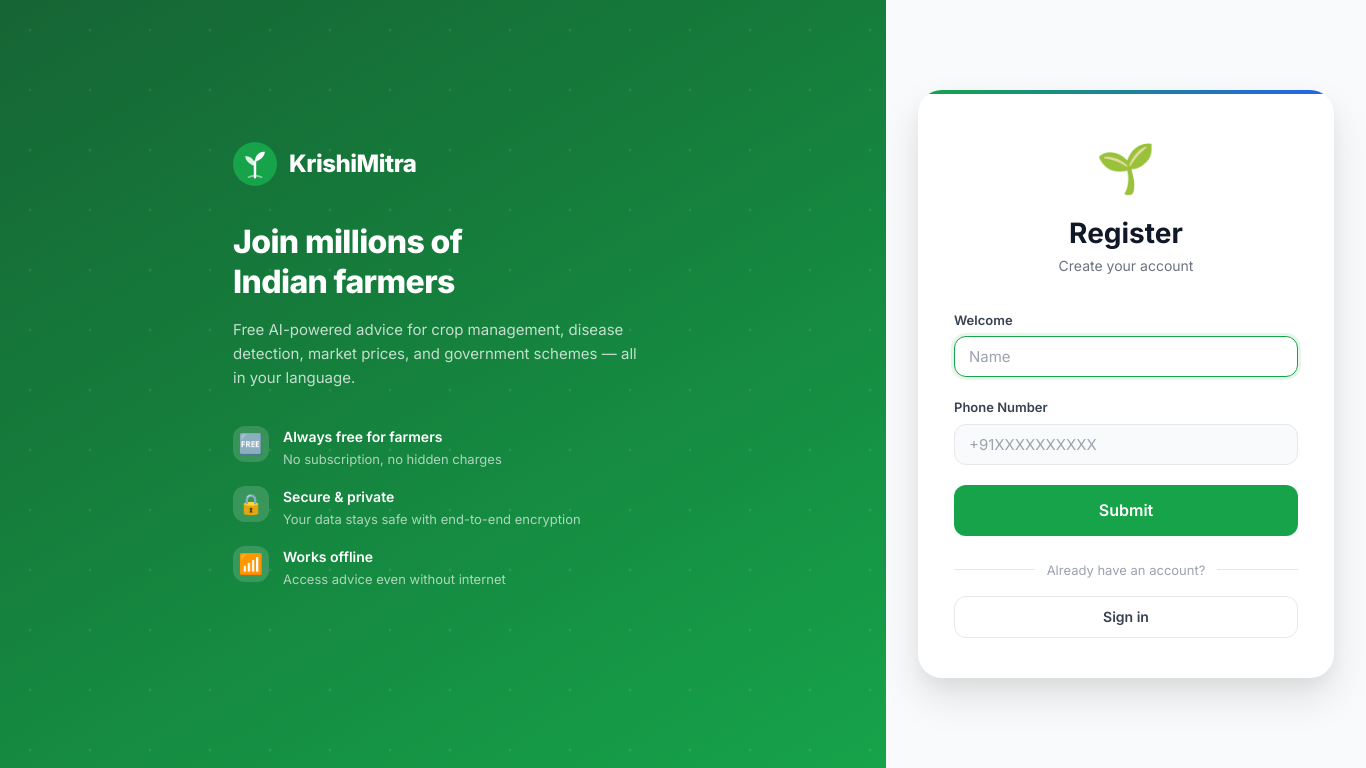
Test: shows OTP input after registration
Step 1. Type "Test User" into the field with placeholder "Name" → (1126, 357), box [954,336,1298,377]
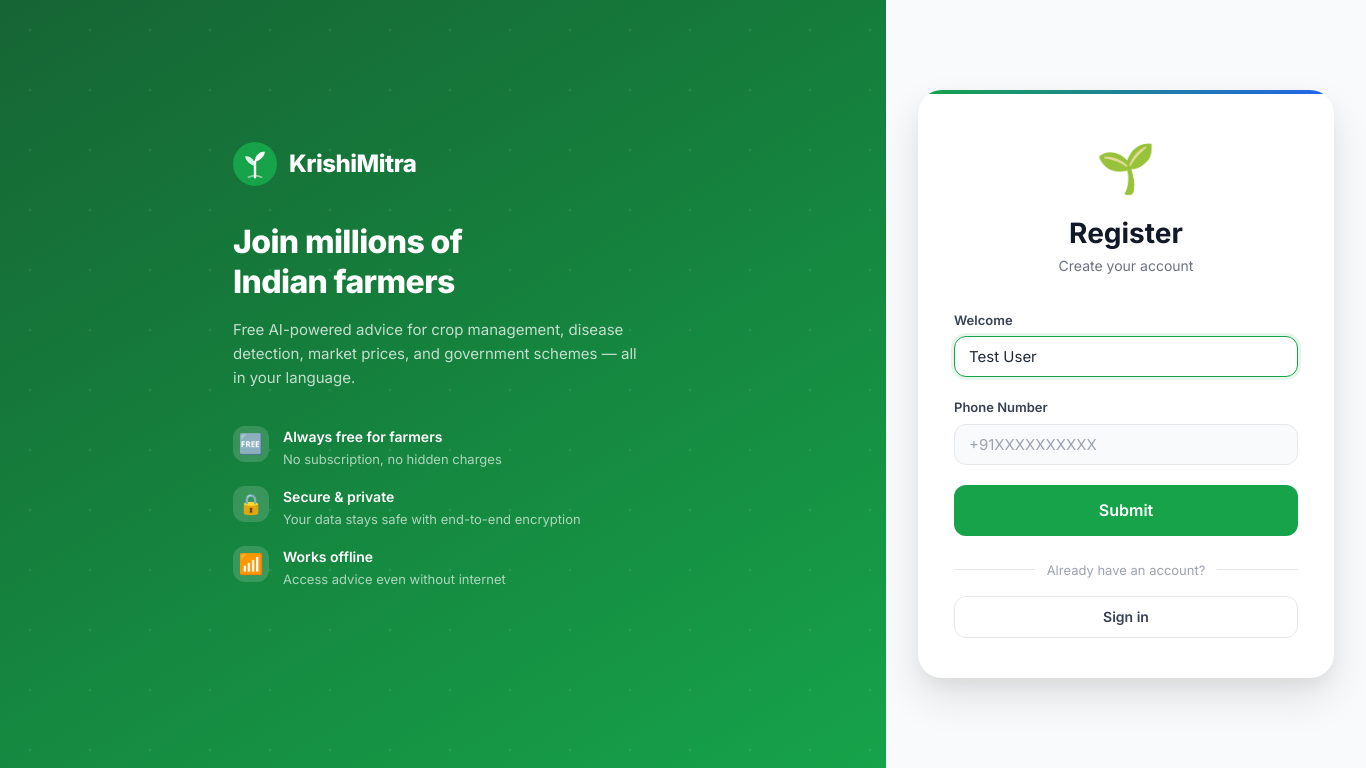
Step 2. Type "+911234567890" into the field with placeholder "+91XXXXXXXXXX" → (1126, 445), box [954,424,1298,465]
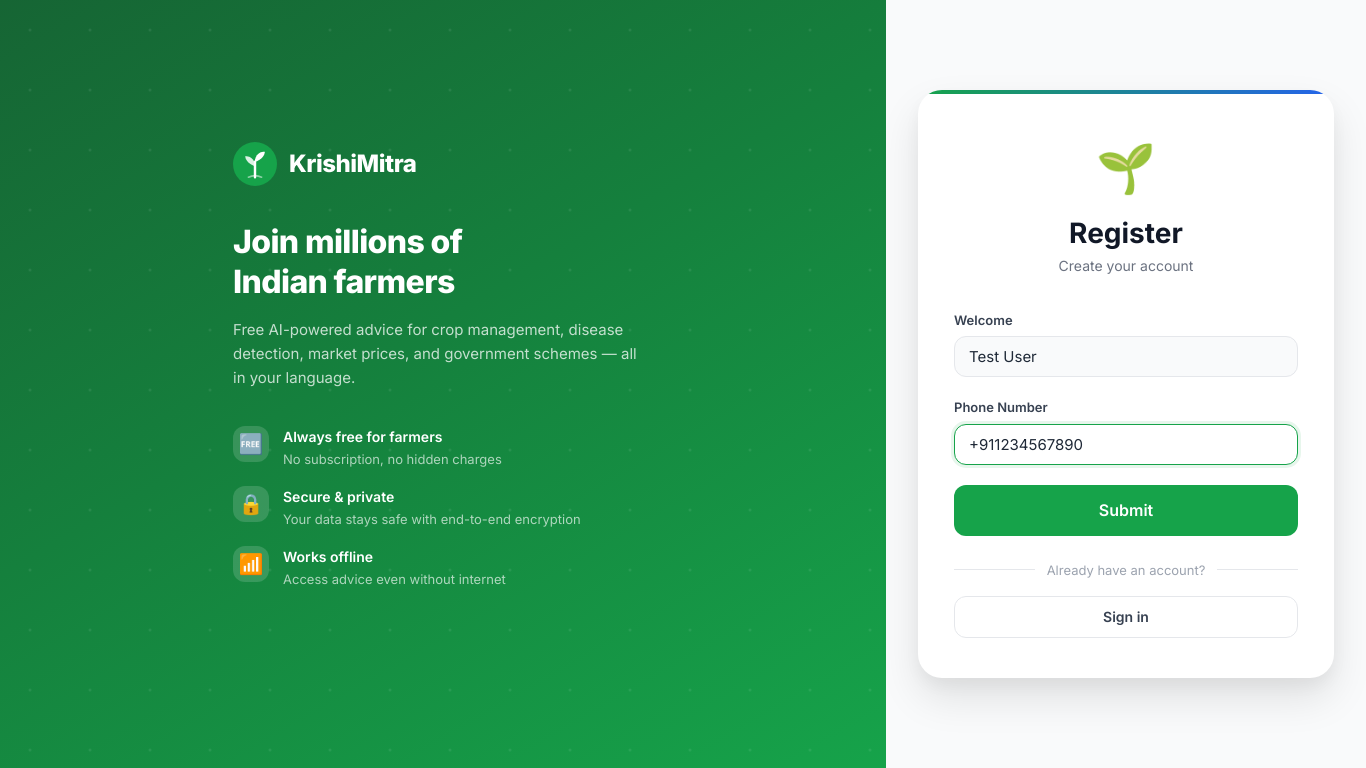
Step 3. Click the button "Submit" → (1126, 510), box [954,485,1298,536]
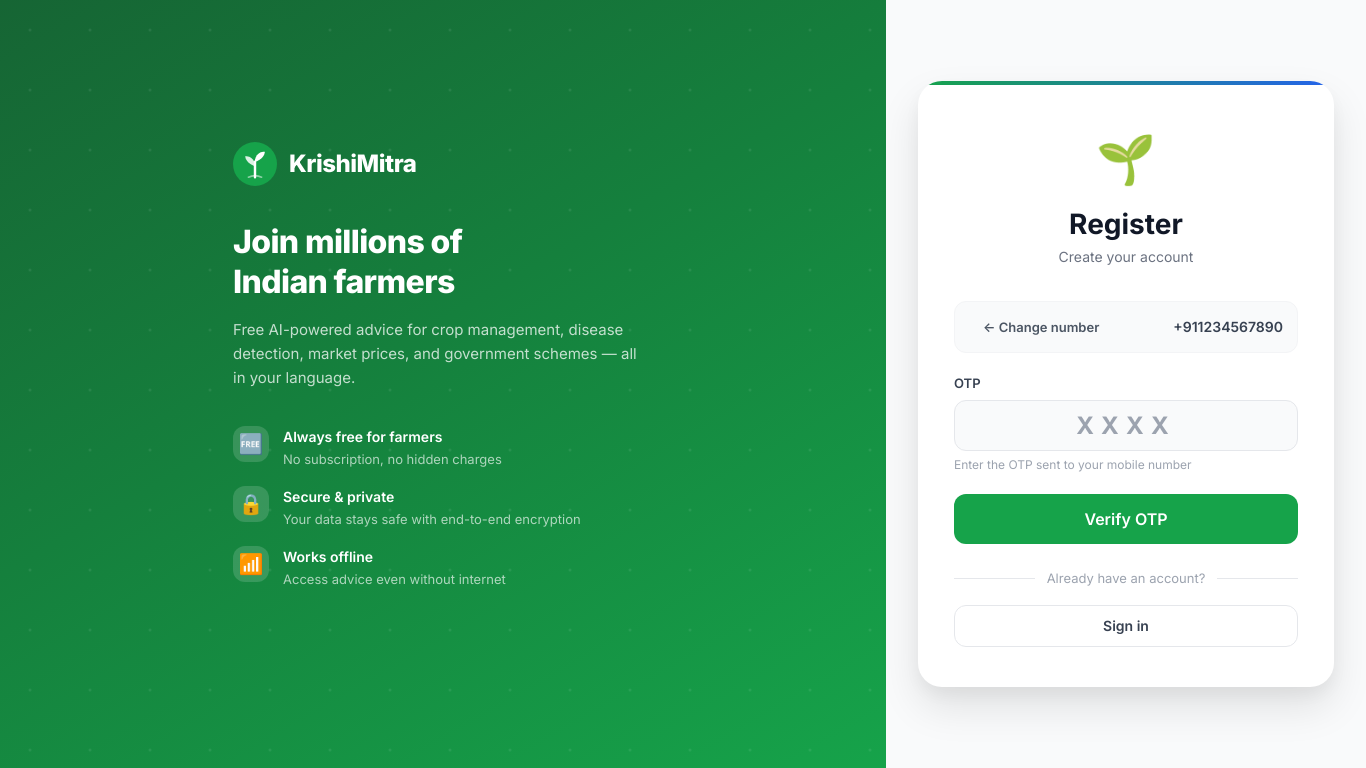
Expected: the field with placeholder "XXXX" is shown, [954,400,1298,451]
Now the button "Verify OTP" is shown, box [954,494,1298,544]
